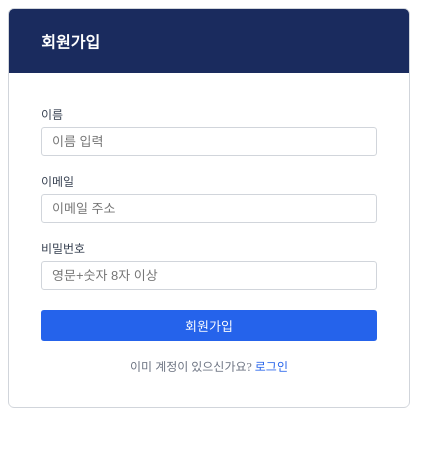
Test case: SignupForm › 서버 409 에러 시 이메일 중복 메시지를 표시한다
In the field labelled "이름": (209, 142) [41,127,377,156], type "홍길동"
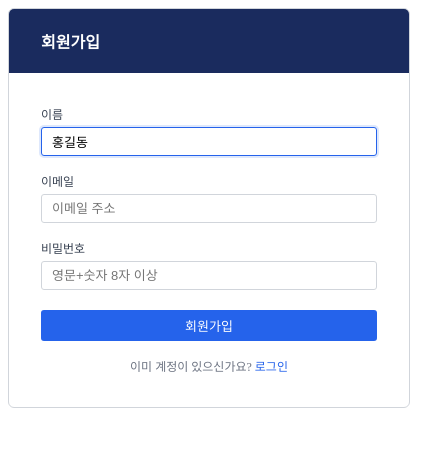
In the field labelled "이메일": (209, 208) [41,194,377,223], type "test@example.com"
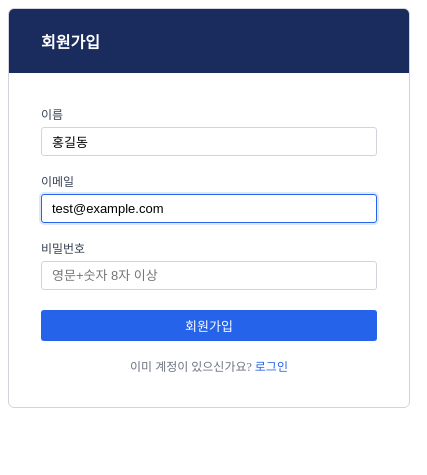
In the password field labelled "비밀번호": (209, 276) [41,261,377,290], type "pass1234"
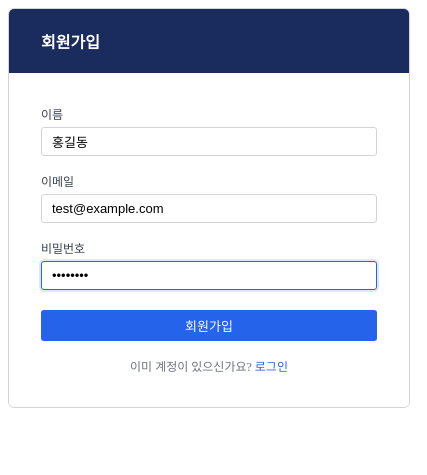
Click the button "회원가입": (209, 326) [41,310,377,341]
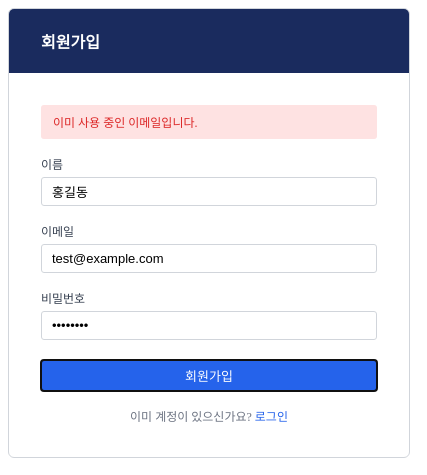
Expected: the text "이미 사용 중인 이메일입니다." is shown, [41,105,377,139]
